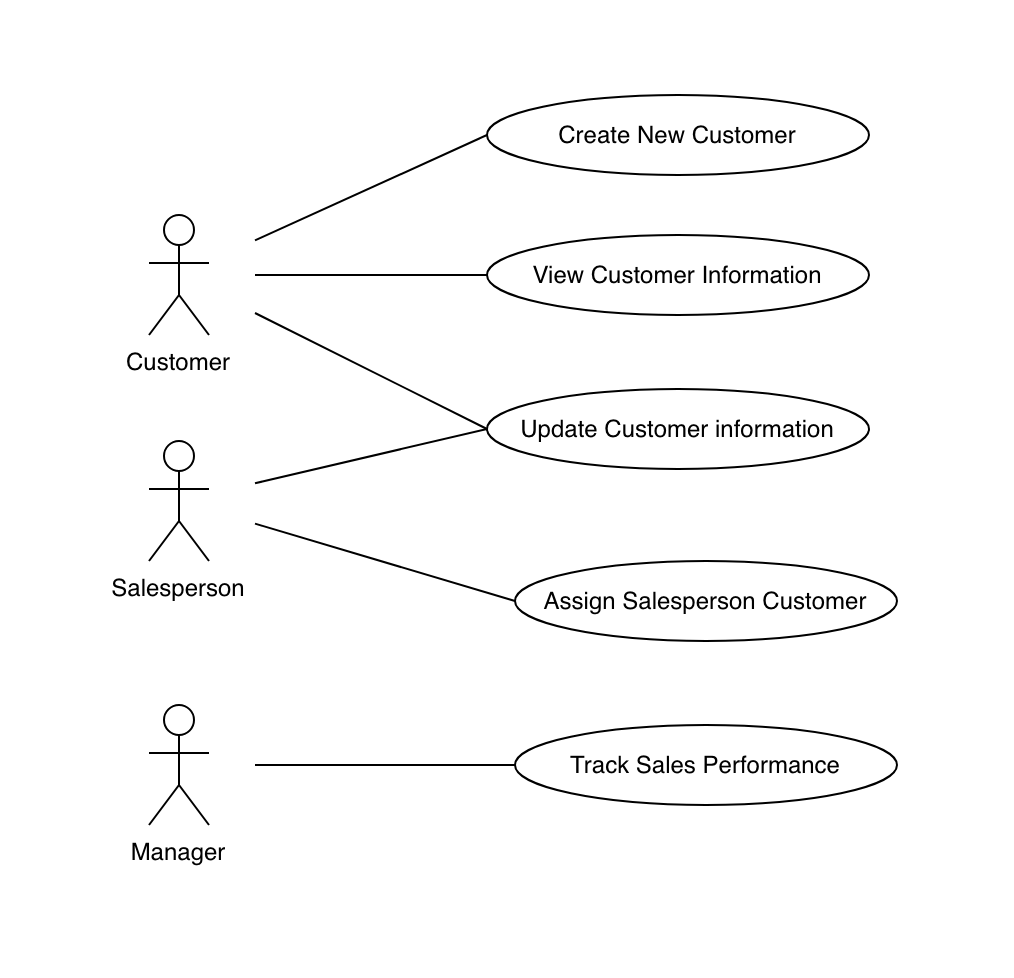actor: (139, 208, 219, 341), (145, 699, 212, 836), (145, 438, 213, 565)
association: (253, 307, 472, 423), (252, 135, 482, 245), (254, 519, 511, 605), (254, 430, 481, 491), (253, 754, 512, 776), (253, 265, 483, 284)
text: (561, 748, 850, 785), (528, 259, 831, 293), (540, 584, 871, 615), (519, 414, 840, 443), (552, 117, 802, 153), (106, 572, 250, 606), (118, 346, 241, 376), (126, 840, 236, 868)
use_case: (511, 556, 902, 645), (482, 385, 875, 473), (483, 232, 873, 320), (483, 91, 871, 179), (512, 722, 901, 809)
